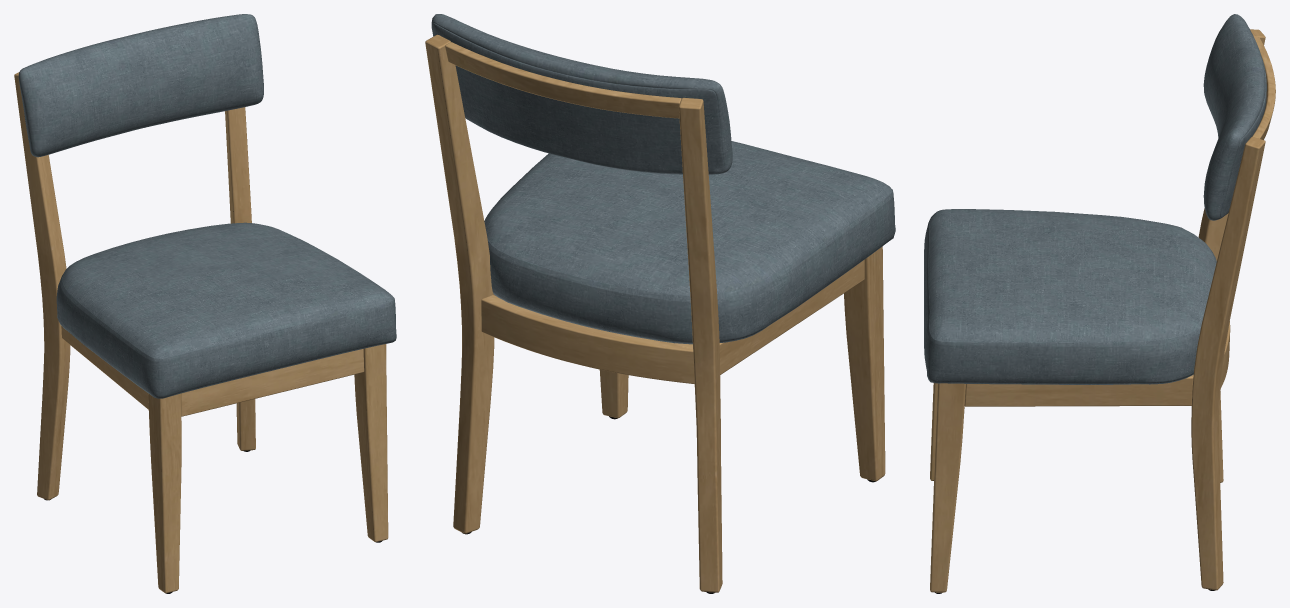
File: abo-B084S1DM72.glb
3 views of the same model, side by side, from view 1: azimuth 30°, elevation 25°; view 2: azimuth 150°, elevation 25°; view 3: azimuth 270°, elevation 25° (orthographic). The views are drawn at different scales.
Bounding box in the file's own units: 0.508 × 0.832 × 0.572.
1 material, 1 textured.
